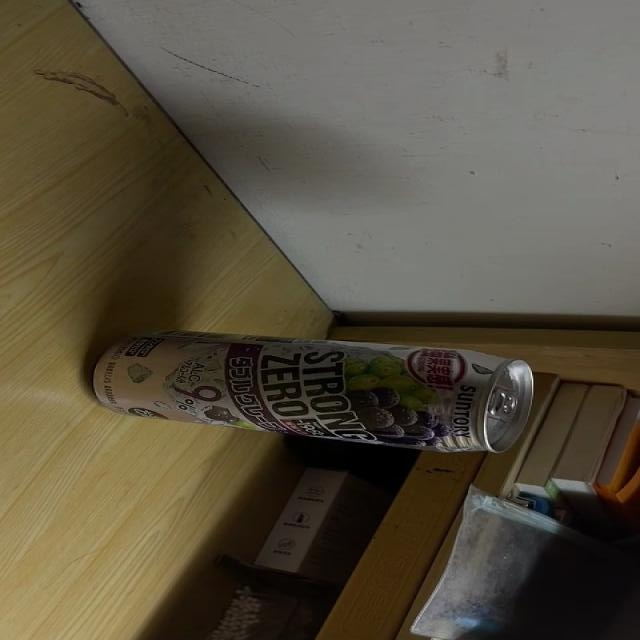Liquor: (86, 329, 534, 452)
